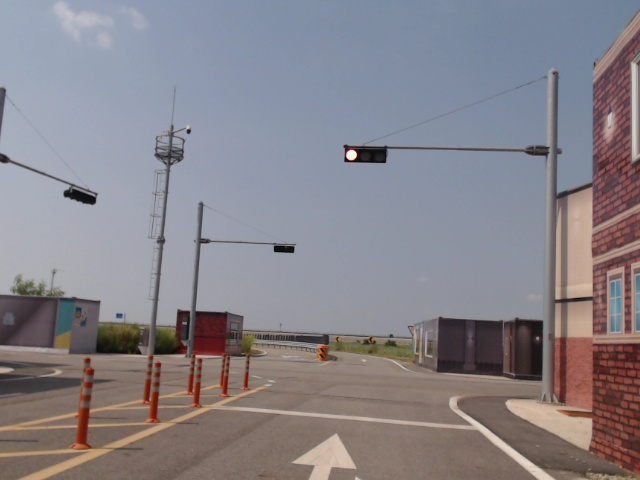red_3: (344, 147, 387, 163)
